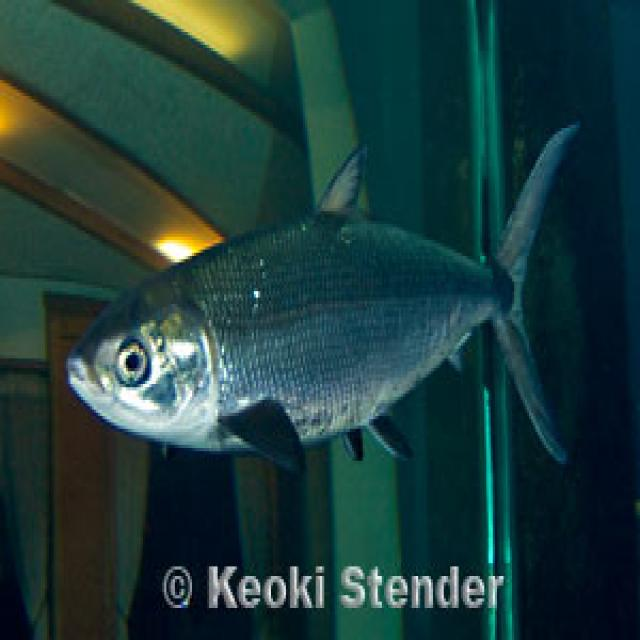Bangus: (51, 104, 586, 512)
